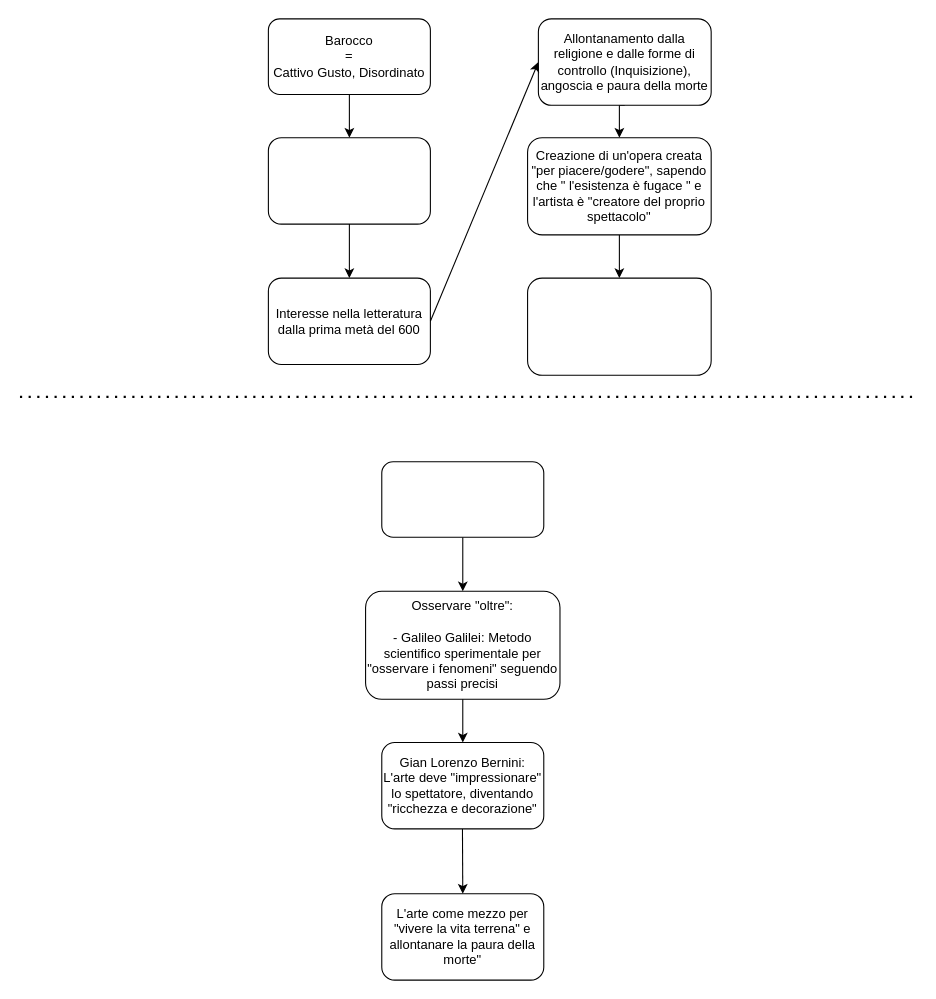
Some shapes in this 936 by 999 pixel diagram are drawn without their labels. Each missing label, with the centre of its shape:
Allontanamento dalla "perfezione classica" e ricerca del bello universale: (348,180)
Cambiamento radicale Nuovi ideali in cui credere Nuovi ideali in cui credere: (462,499)
Sorprendere lo spettatore con le opere del "teatro del mondo": (618,326)
